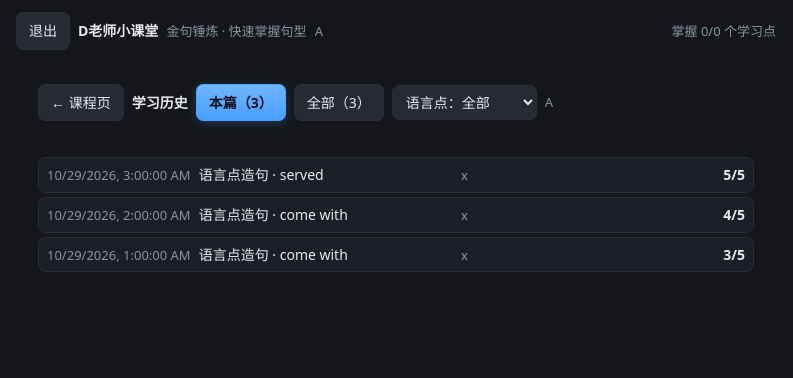
Scenario: GoldenPanel › 学习历史：按语言点筛、详情翻上下一条、悬浮看摘要
Check: the button with aria-label "作答：second answer" is shown, box [38,197,754,233]
# 按语言点筛：只剩 2 条
Step 1. Select "come with（2）" in the dropdown named "按语言点筛选" → (464, 102), box [392,85,537,120]
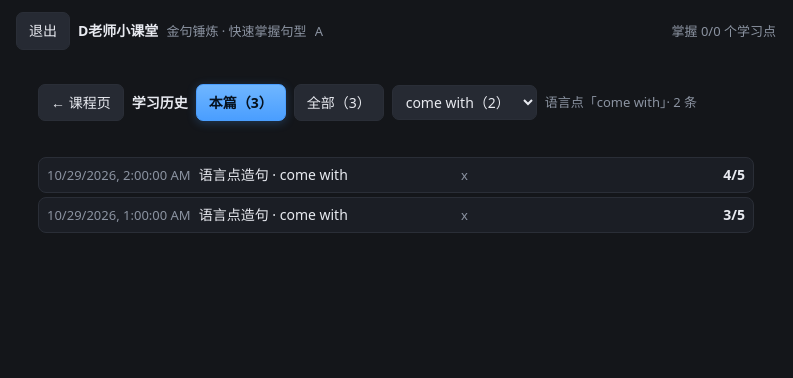
Check: the text "语言点「come with」· 2 条" is shown, box [545,92,697,113]
# 点开最新一条（列表按时间倒序，第一条是 second answer）
Step 2. Click the button with aria-label "作答：second answer" → click(119, 175), box [38,157,754,193]
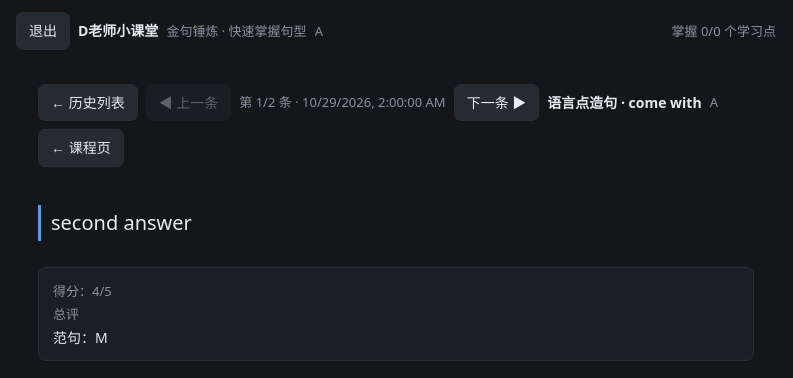
Check: the text "第 1/2 条 · 10/29/2026, 2:00:00 AM" is shown, box [239,92,446,113]
Check: the button "◀ 上一条" is disabled, box [146,84,231,121]
Step 3. Click the button "下一条 ▶" → click(496, 103), box [454,84,539,121]
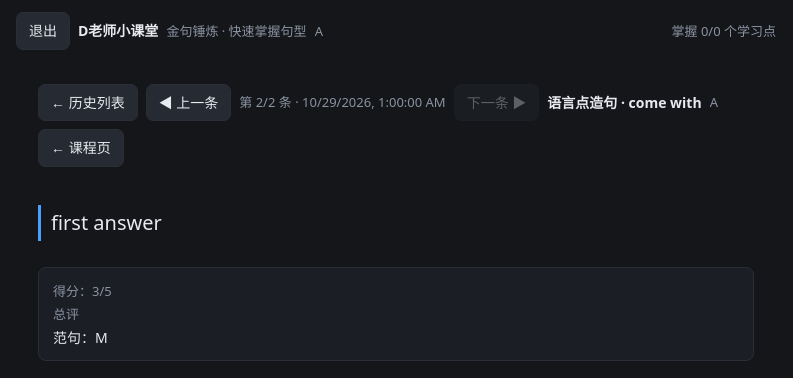
Check: the text "第 2/2 条 · 10/29/2026, 1:00:00 AM" is shown, box [239,92,446,113]
Check: the text "first answer" is shown, box [38,205,754,241]
